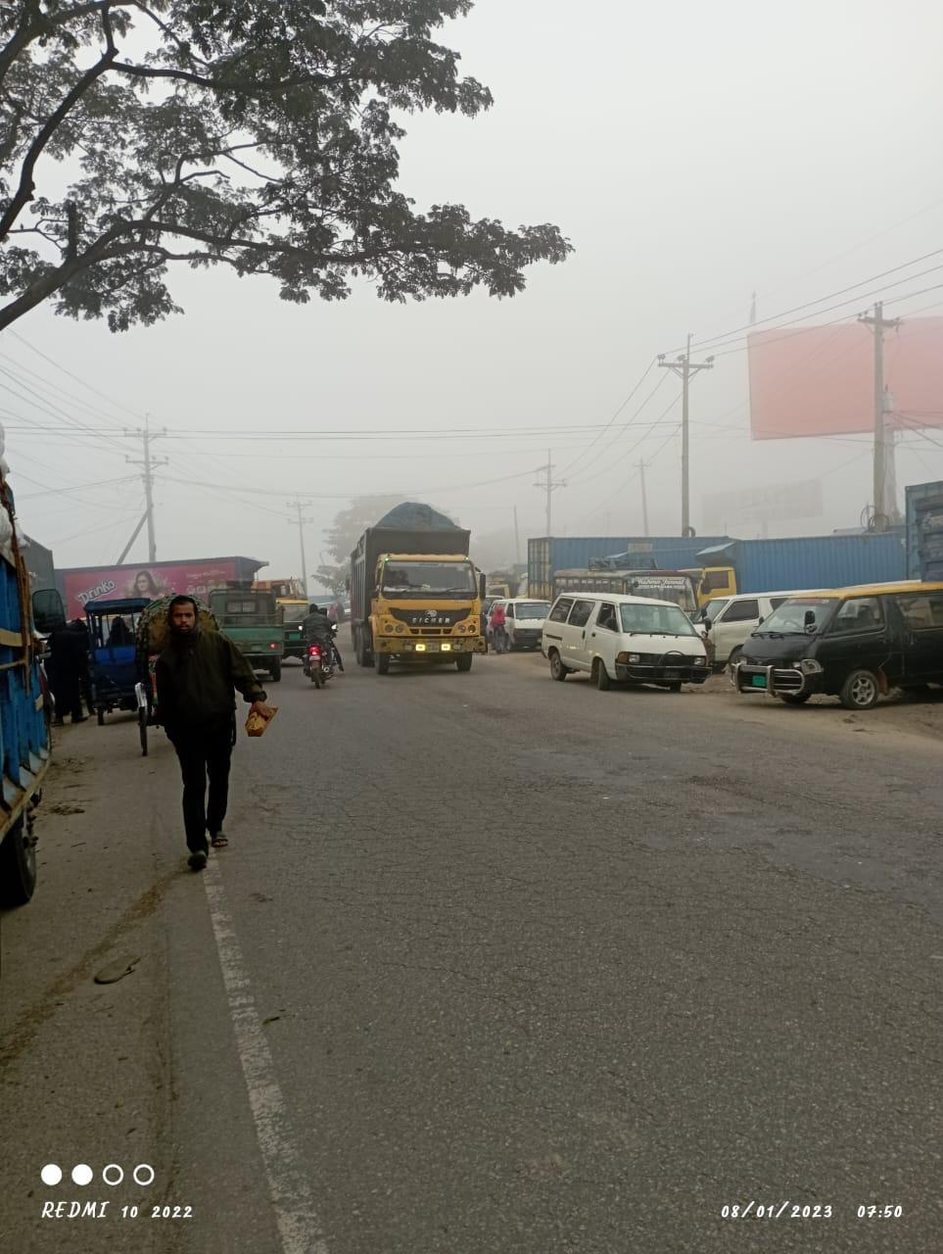Bike: (295, 597, 345, 687)
Car: (736, 576, 943, 713), (539, 587, 714, 702)
Truck: (338, 490, 505, 683), (205, 569, 287, 679)
